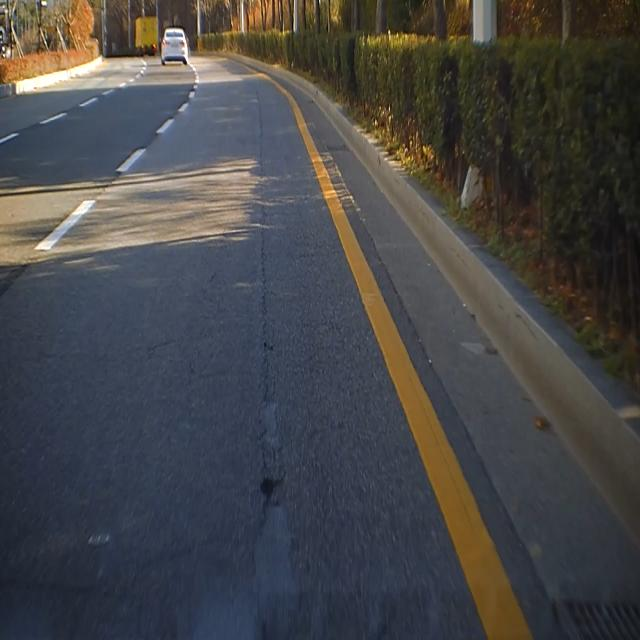Pothole: (236, 430, 298, 548)
